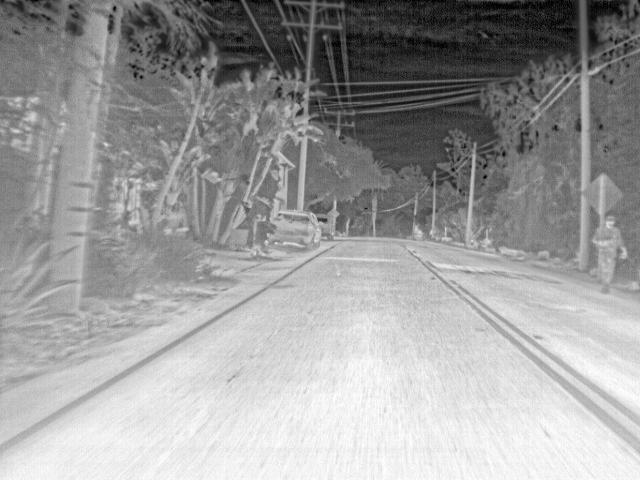car: (269, 208, 324, 251), (316, 216, 336, 242)
person: (592, 215, 630, 294)
